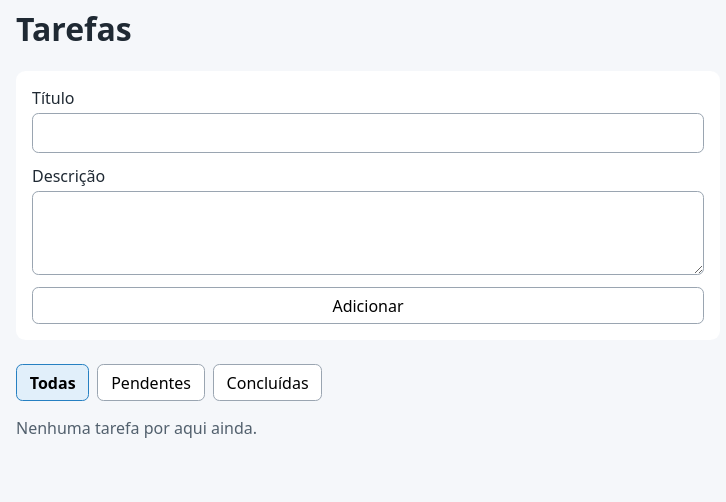
Test: App › cria uma tarefa, mostra na lista e limpa o formulário
Expected: the text "Nenhuma tarefa por aqui ainda." is shown, x1=16 y1=417 x2=257 y2=439
Type "Escrever relatório" into the field labelled "Título" at coordinates (368, 133), box x1=32 y1=113 x2=704 y2=153
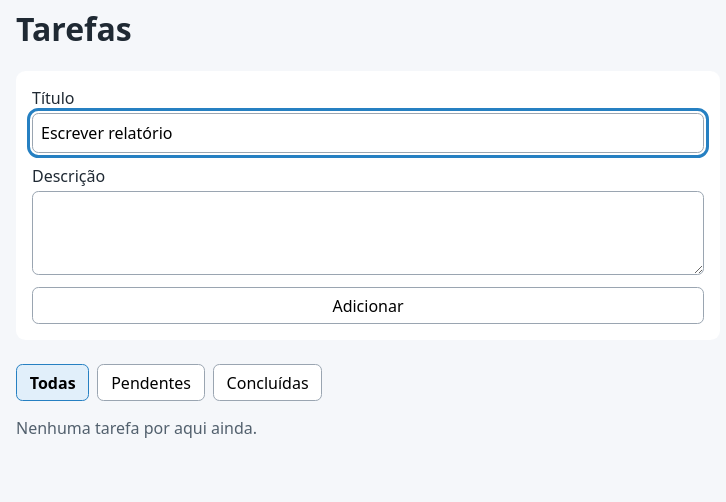
Click the button "Adicionar" at coordinates (368, 306), box x1=32 y1=287 x2=704 y2=324
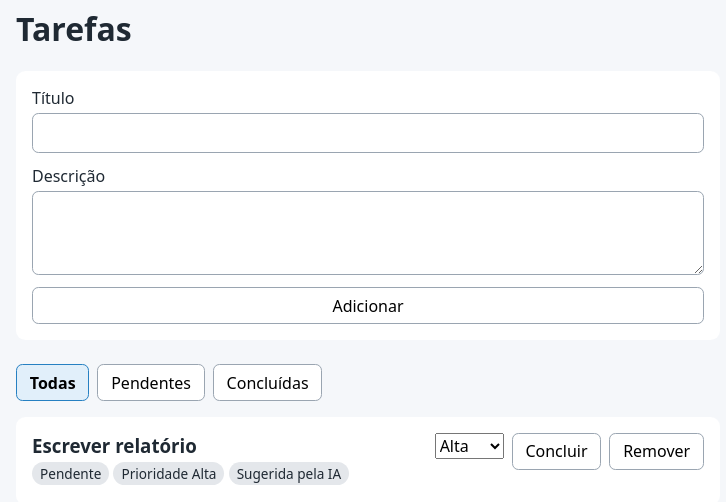
Expected: the heading "Escrever relatório" is shown, x1=32 y1=433 x2=197 y2=458
Expected: the text "Sugerida pela IA" is shown, x1=229 y1=462 x2=349 y2=485
Expected: the field labelled "Título" is empty, x1=32 y1=113 x2=704 y2=153
